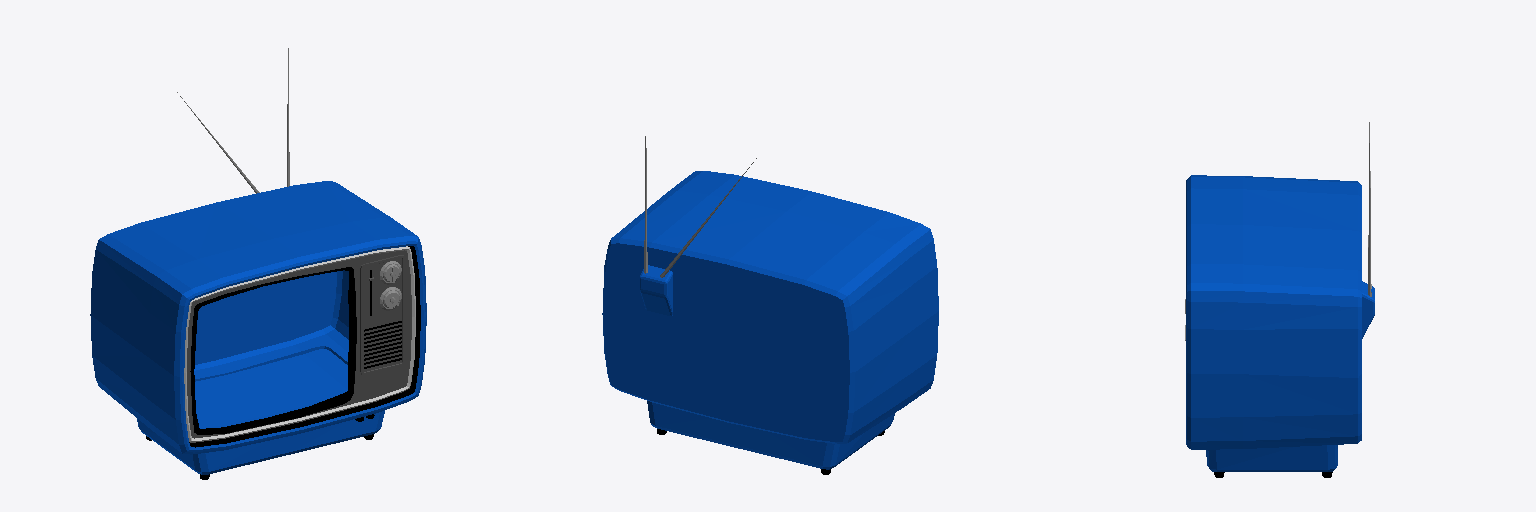
File: bluetv.obj
The picture shows the model from 3 angles: view 1: azimuth 30°, elevation 25°; view 2: azimuth 150°, elevation 25°; view 3: azimuth 270°, elevation 25°; orthographic projection.
Visible parts, largest first — view 1: tv_Retro_TV; view 2: tv_Retro_TV; view 3: tv_Retro_TV.
Boxes of the visible parts, <box> form: tv_Retro_TV: <box>90,48,426,479</box>; tv_Retro_TV: <box>602,136,938,474</box>; tv_Retro_TV: <box>1185,122,1374,477</box>.
Bounding box in the file's own units: 110 × 150 × 71.95.